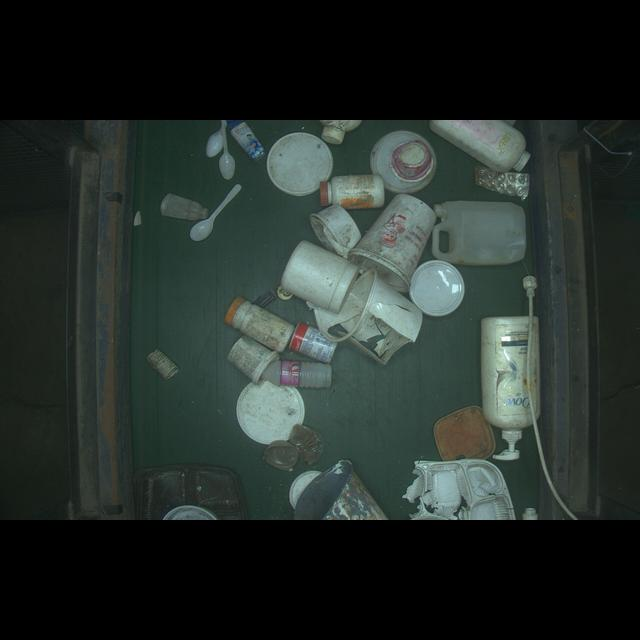mix PP: (475, 309, 552, 460), (434, 200, 532, 267), (409, 261, 470, 317), (288, 311, 341, 362), (318, 172, 392, 208)
